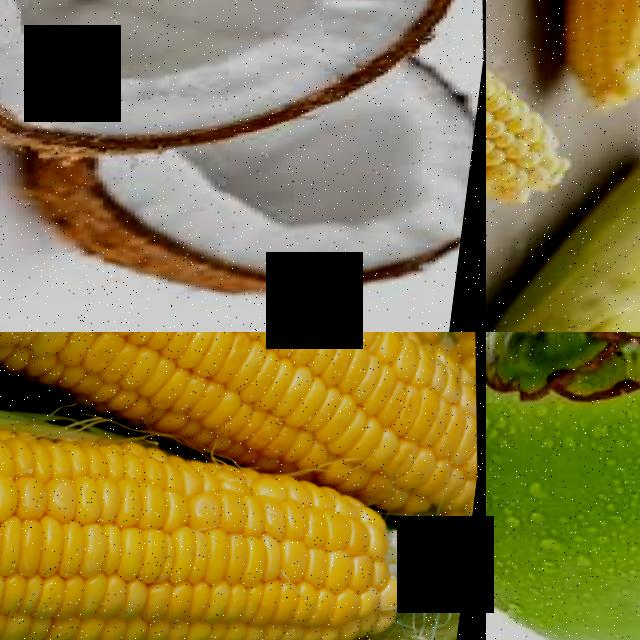coconut: (31, 94, 484, 332), (0, 0, 486, 159), (486, 332, 640, 640)
corn: (20, 410, 439, 640), (136, 332, 486, 475), (0, 372, 114, 640), (486, 0, 587, 221), (536, 0, 640, 115)
